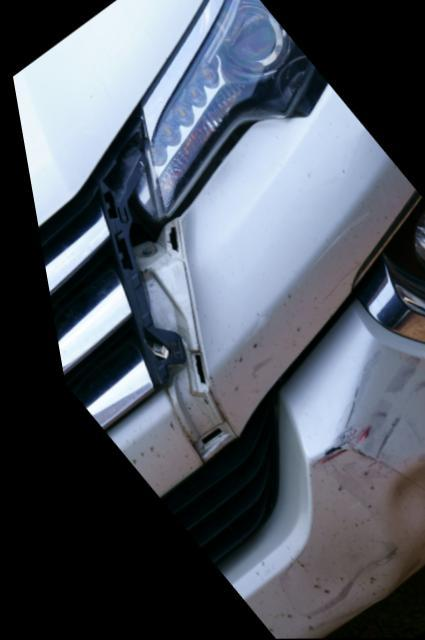dent: (268, 456, 425, 619)
scratch: (81, 72, 425, 639), (292, 345, 425, 474)
